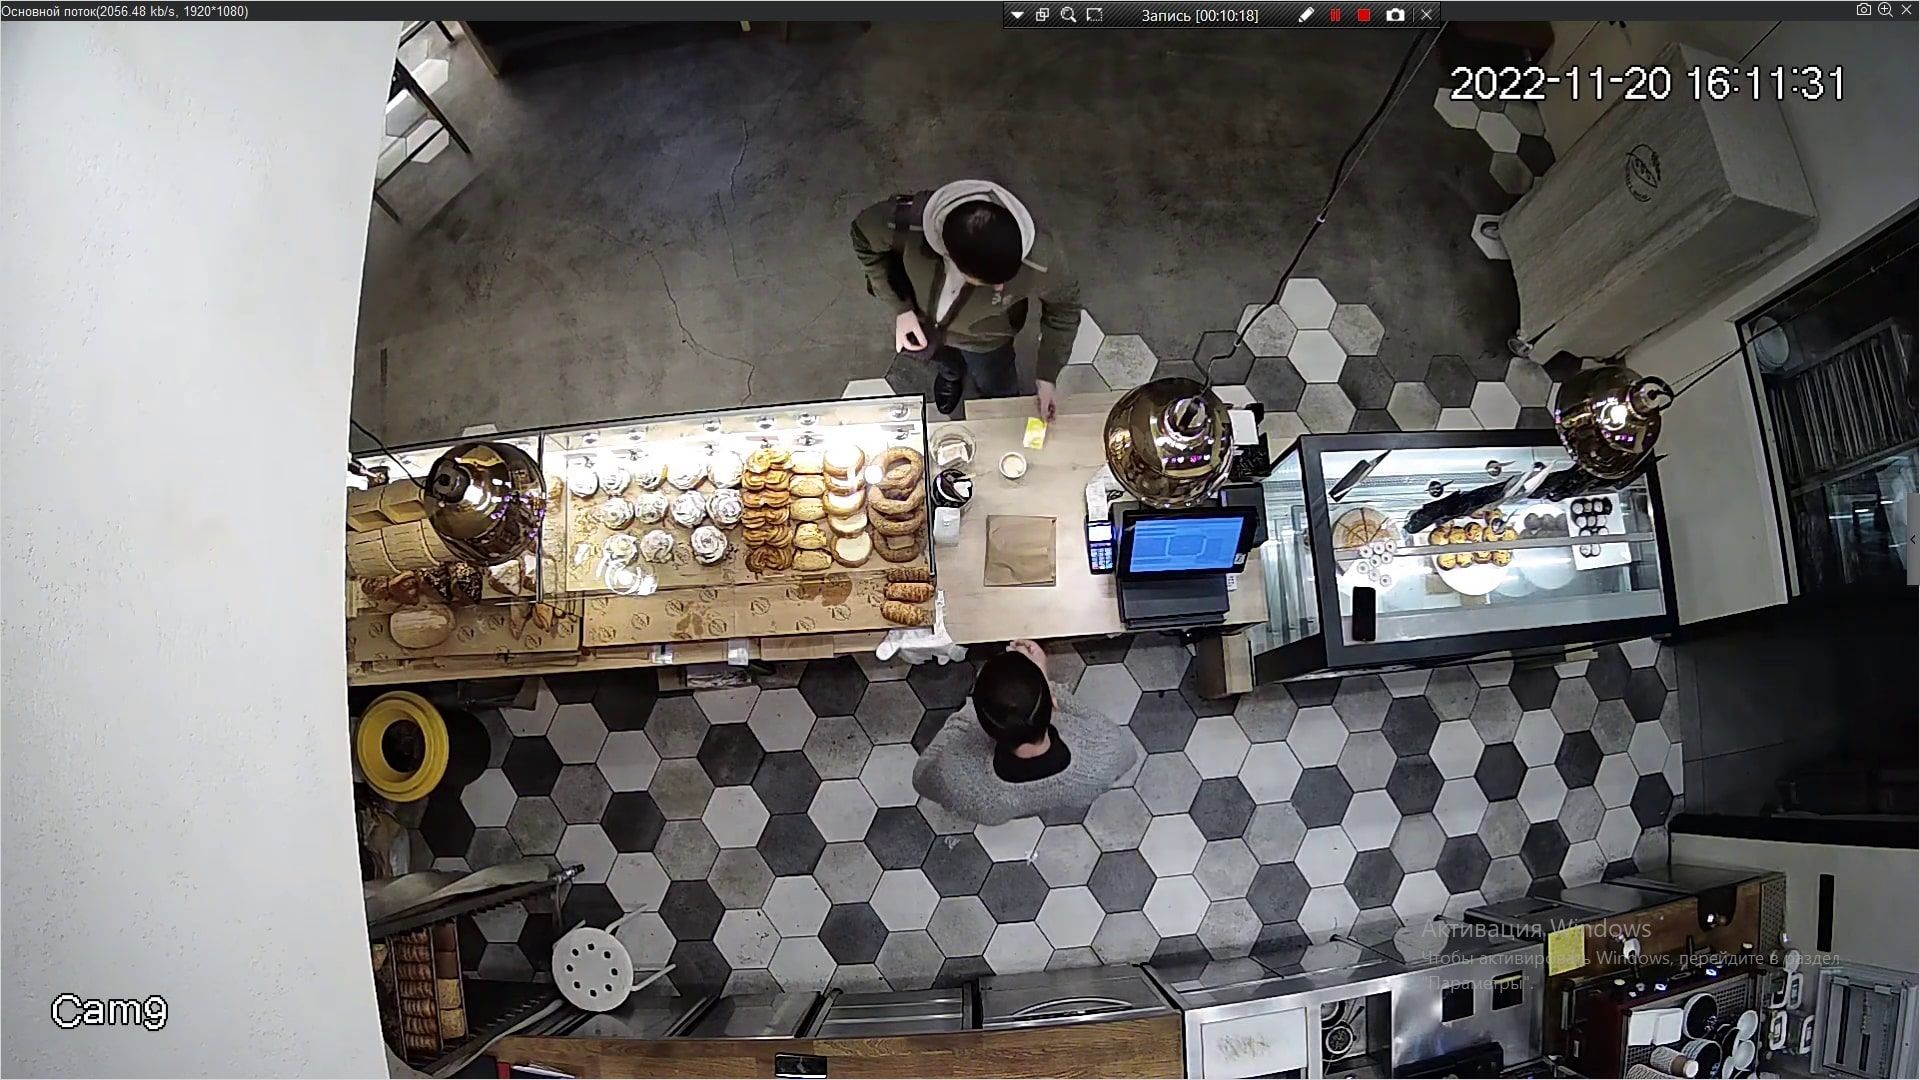coffee: (1000, 452, 1025, 477)
pack: (977, 511, 1066, 584)
person: (856, 178, 1085, 396), (907, 657, 1156, 856)
